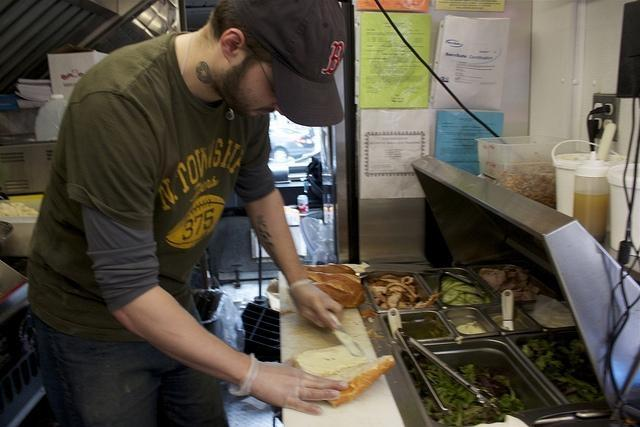car: (270, 122, 314, 163)
